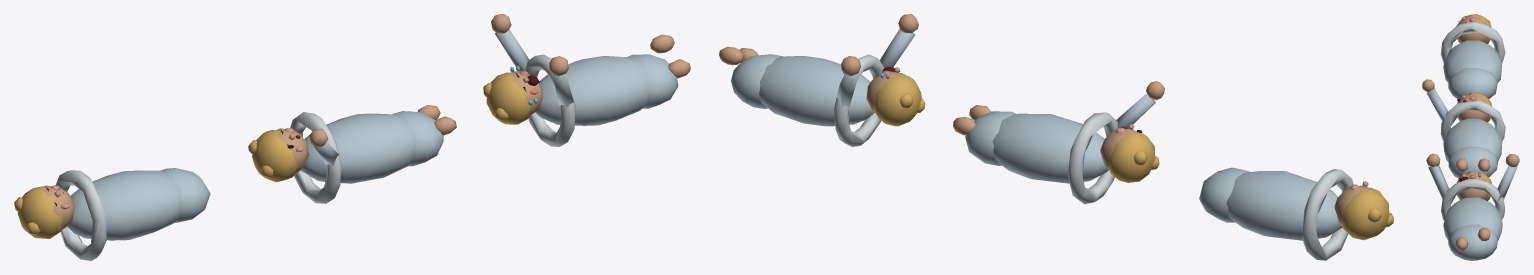
3 views of the same model, side by side, from view 1: azimuth 30°, elevation 25°; view 2: azimuth 150°, elevation 25°; view 3: azimuth 270°, elevation 25° (orthographic). The views are drawn at different scales.
Parts seen in each view (by area): view 1: w_em_be_khoc, w_em_be_cua, w_em_be_ngu; view 2: w_em_be_khoc, w_em_be_cua, w_em_be_ngu; view 3: w_em_be_khoc, w_em_be_cua, w_em_be_ngu.
Boxes of the visible parts, box(x1,y1,x2,y2) form: w_em_be_khoc: box(483, 14, 690, 146); w_em_be_cua: box(248, 105, 456, 203); w_em_be_ngu: box(14, 168, 210, 260); w_em_be_khoc: box(719, 14, 925, 146); w_em_be_cua: box(953, 81, 1164, 204); w_em_be_ngu: box(1199, 167, 1393, 260); w_em_be_khoc: box(1426, 153, 1519, 260); w_em_be_cua: box(1422, 79, 1505, 178); w_em_be_ngu: box(1440, 14, 1505, 98).
Size of the model in its own units: 2.11 by 0.3444 by 0.393.
